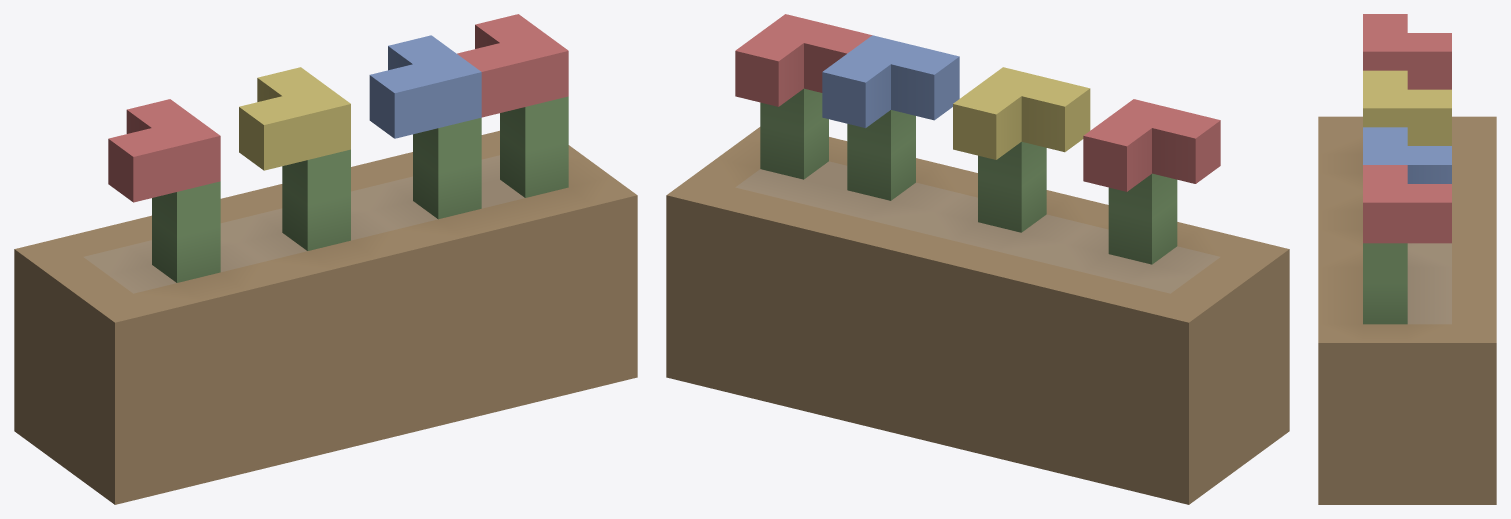
The model's file is jardiniere.glb.
3 views of the same model, side by side, from view 1: azimuth 30°, elevation 25°; view 2: azimuth 150°, elevation 25°; view 3: azimuth 270°, elevation 25° (orthographic). The views are drawn at different scales.
Visible parts, largest first — view 1: geometry_0; view 2: geometry_0; view 3: geometry_0.
Boxes of the visible parts, x1,y1,x2,y2 form: geometry_0: (14, 14, 637, 504); geometry_0: (666, 14, 1289, 504); geometry_0: (1318, 14, 1496, 504).
Size of the model in its own units: 1.5 by 0.875 by 0.5.
